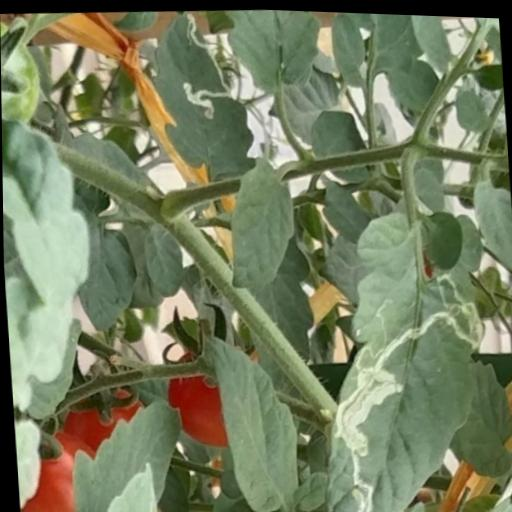Healthy: (201, 324, 302, 512), (222, 149, 302, 291)
Leaf_Miner: (303, 200, 498, 512), (147, 5, 259, 181)
